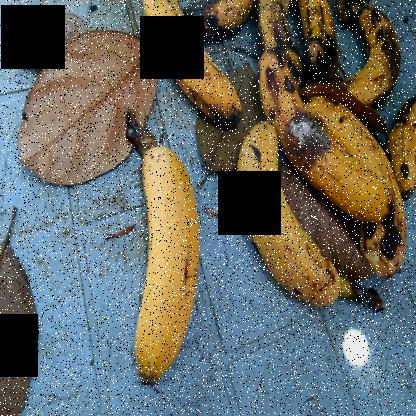freshripe: (103, 130, 207, 384)
ripe: (226, 113, 340, 328), (144, 0, 242, 120)
rotten: (261, 46, 393, 226)
